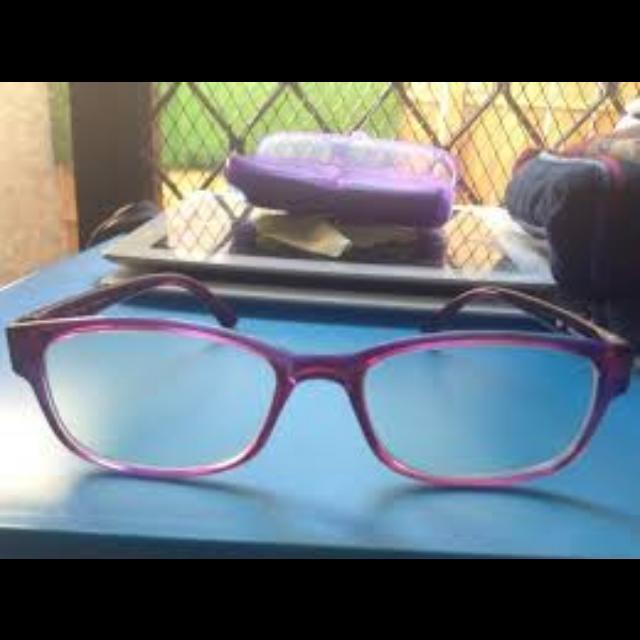glasses: (0, 266, 630, 487)
